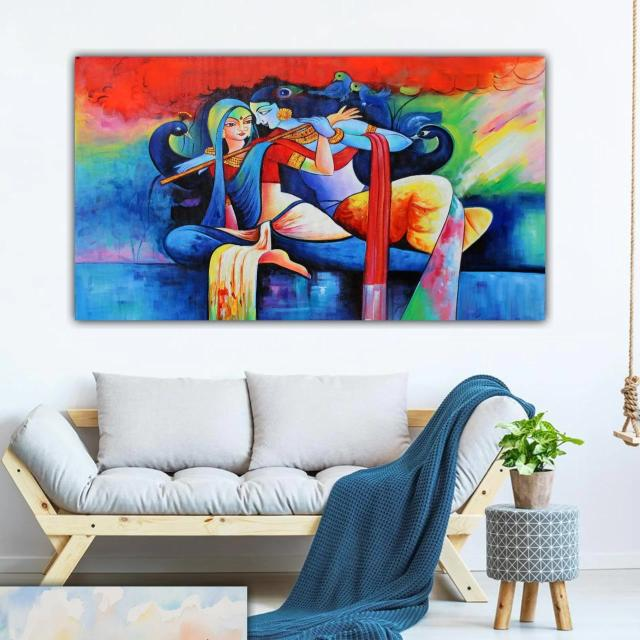painting: (74, 51, 549, 321)
